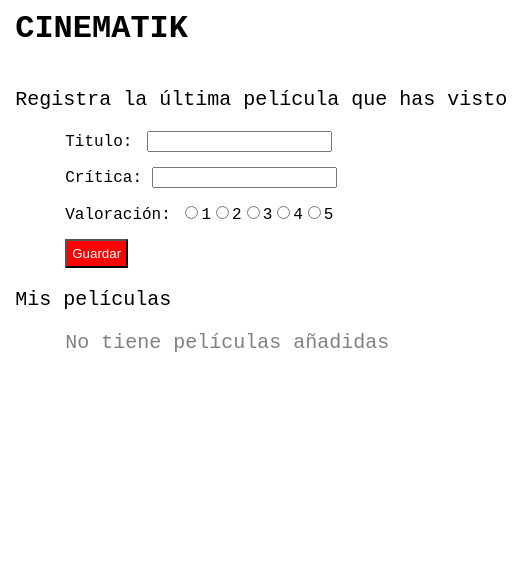
Edita una película añadida
Type "Star Wars" into the field labelled "Titulo:".
click(240, 142); type("Star Wars")  # box [147,131,332,152]
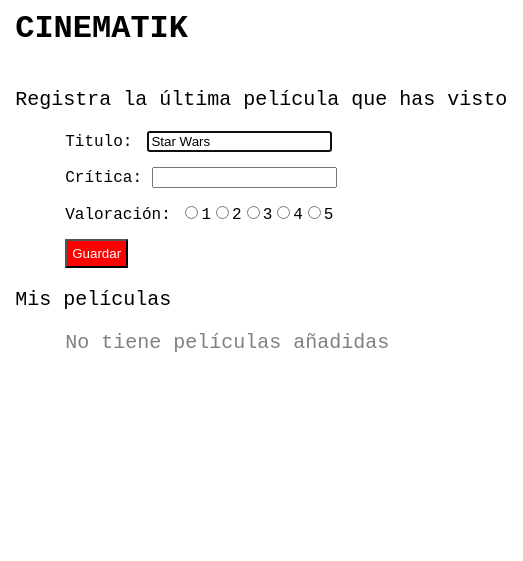
Click the button "Guardar".
click(97, 254)  # box [65,239,128,268]
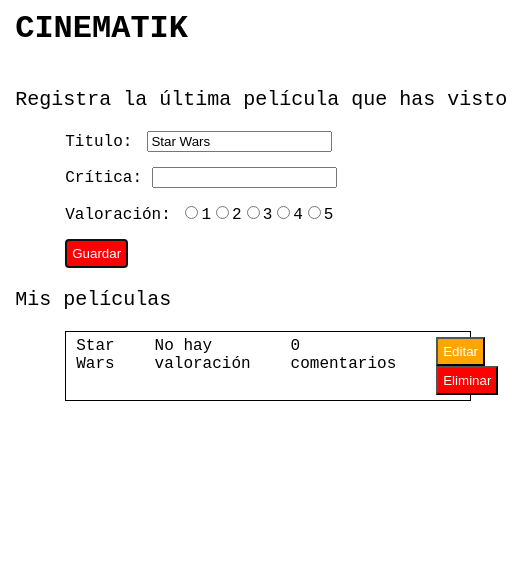
Click the button "Editar".
click(461, 352)  # box [436,337,485,366]
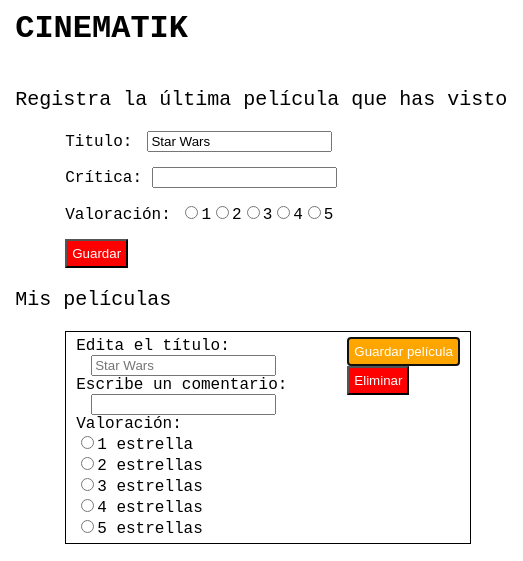
Type "Star Wars 2" into the field with placeholder "Star Wars".
click(184, 366); type("Star Wars 2")  # box [91,355,276,376]
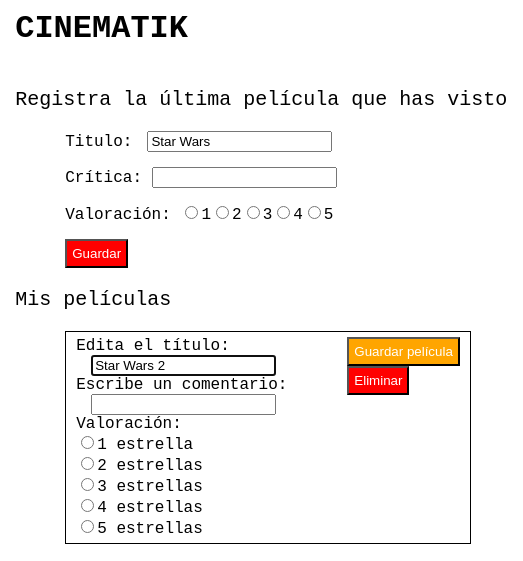
Click the button "Guardar película".
click(404, 352)  # box [347,337,460,366]
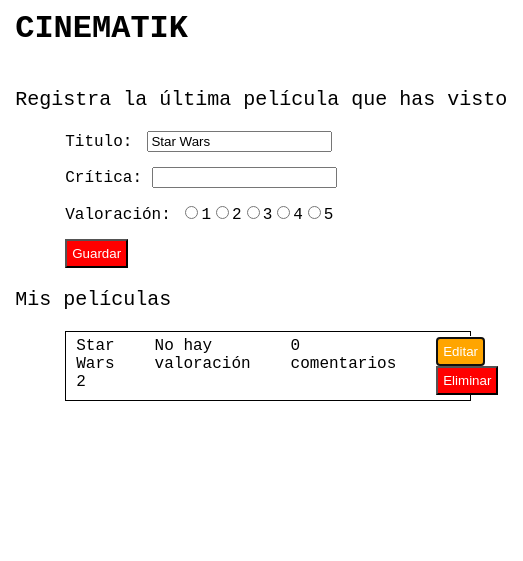
Check: the text "Star Wars 2" is shown, box [76,337,115,395]
